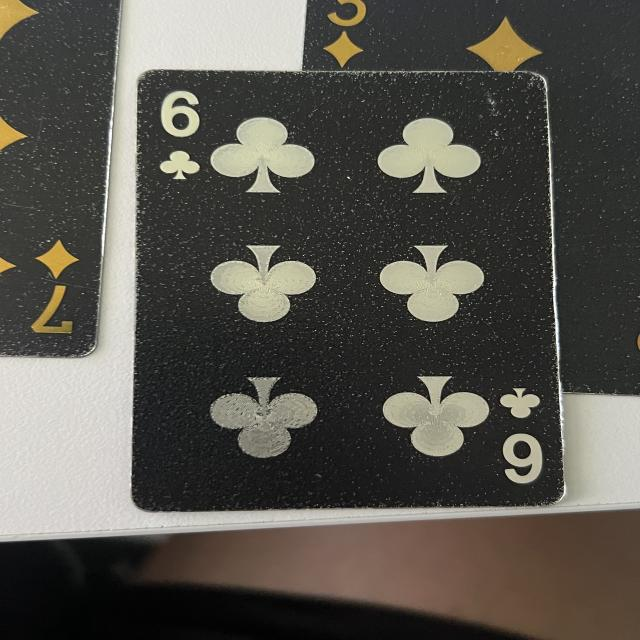6C: (495, 385, 549, 489), (156, 90, 203, 179)
7D: (29, 237, 84, 338)
